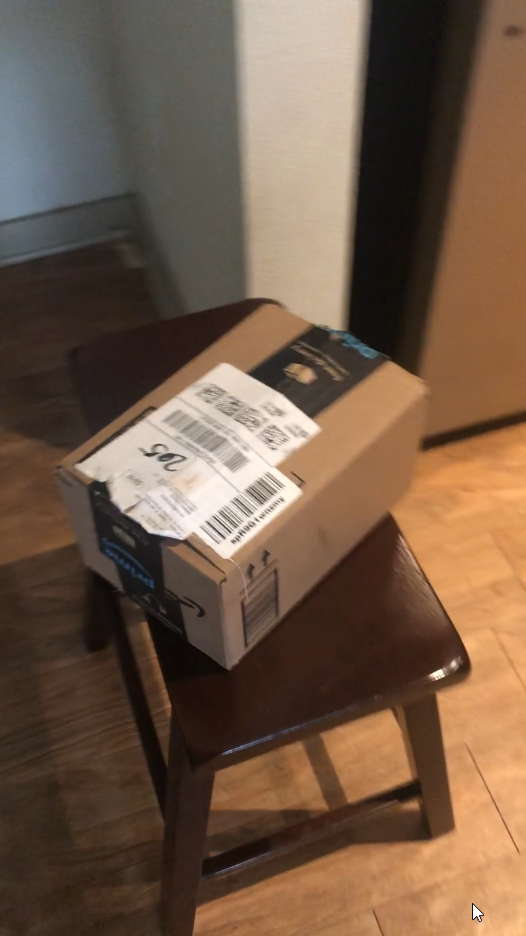package: (47, 297, 446, 685)
